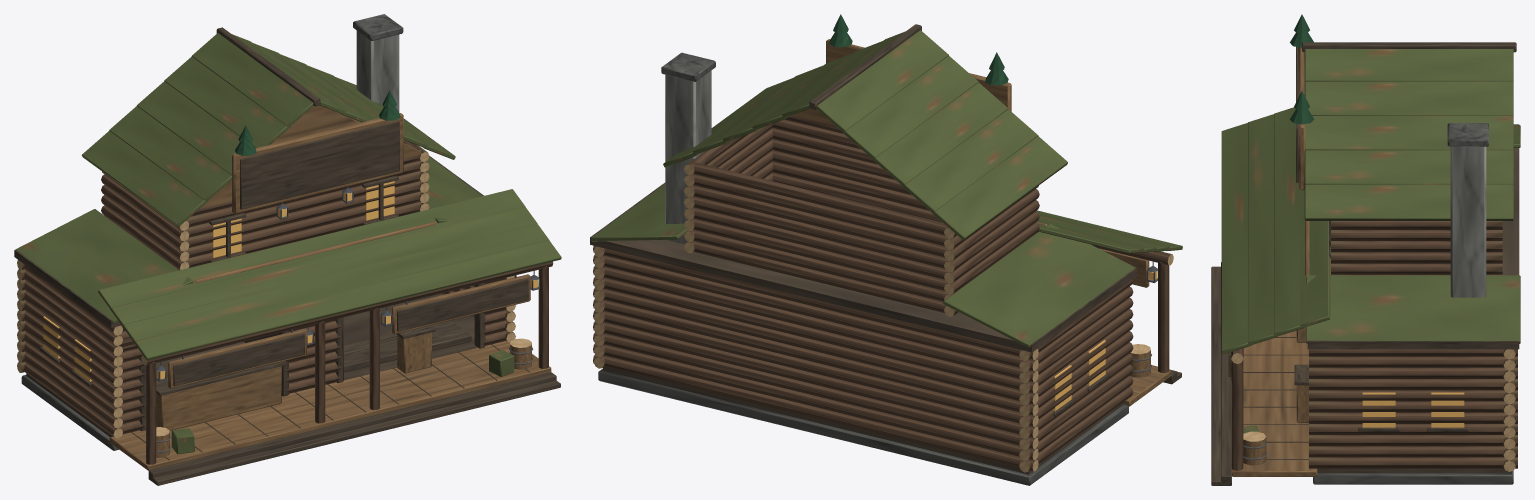
The model's file is SM_Lobby_Lodge.fbx.
The picture shows the model from 3 angles, left to right: view 1: azimuth 30°, elevation 25°; view 2: azimuth 150°, elevation 25°; view 3: azimuth 270°, elevation 25°; orthographic projection. The views are drawn at different scales.
Parts seen in each view (by area): view 1: SM_Lobby_Lodge; view 2: SM_Lobby_Lodge; view 3: SM_Lobby_Lodge.
Part boxes in pixels (x1,y1,x2,y2): SM_Lobby_Lodge: (14,14,561,485); SM_Lobby_Lodge: (590,14,1182,485); SM_Lobby_Lodge: (1211,14,1520,485).
Bounding box in the file's own units: 38 × 26.9 × 22.5.
Materials: 1 (1 with a texture image).
